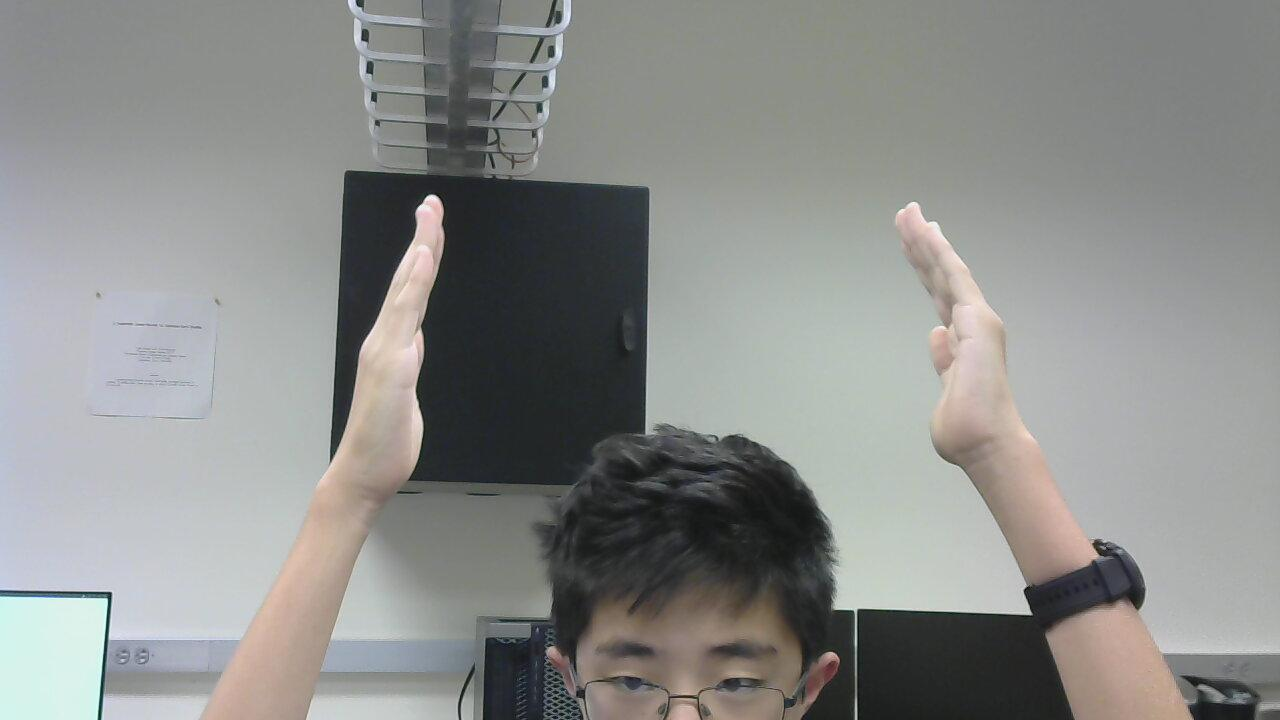hands: (321, 173, 455, 519), (890, 194, 1045, 483)
